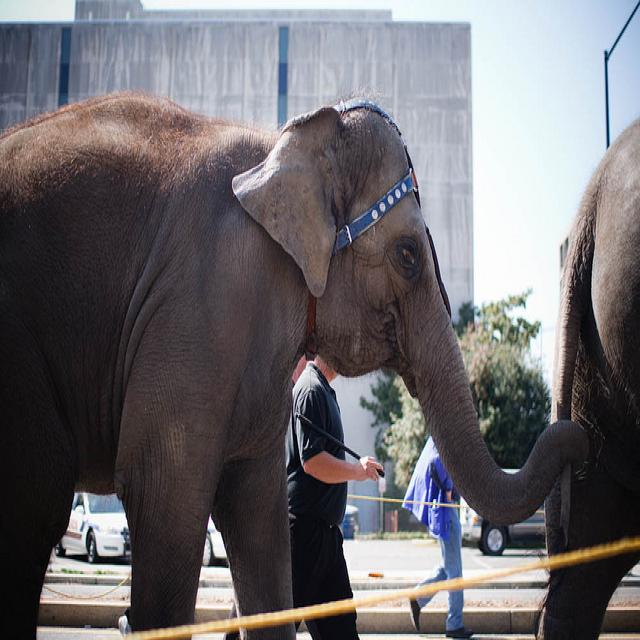Vehicle: (460, 469, 547, 556), (54, 492, 132, 565), (200, 517, 229, 566)
